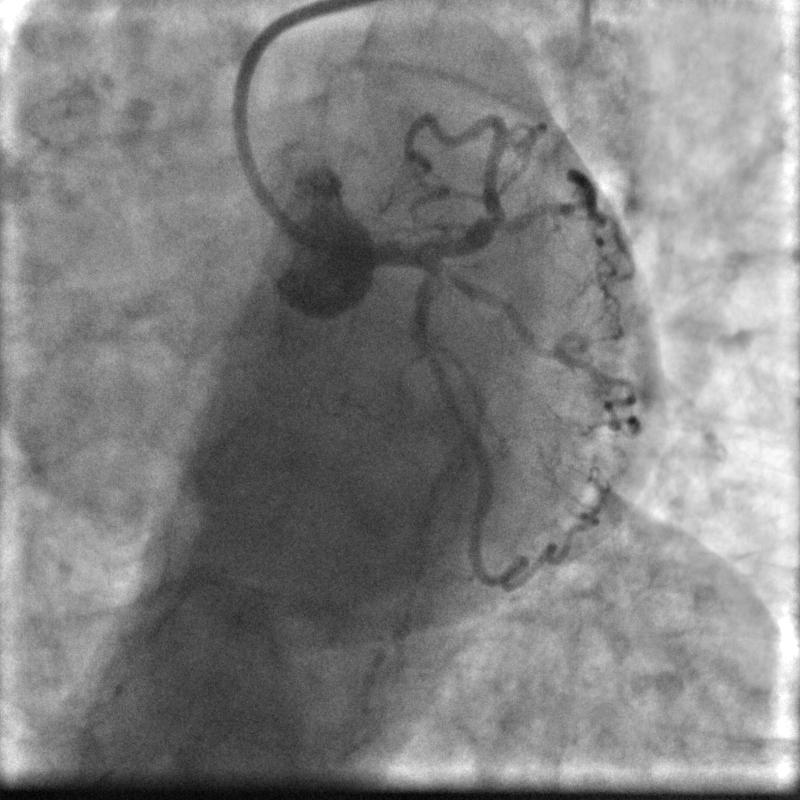Stenosis: (413, 335, 442, 366)
